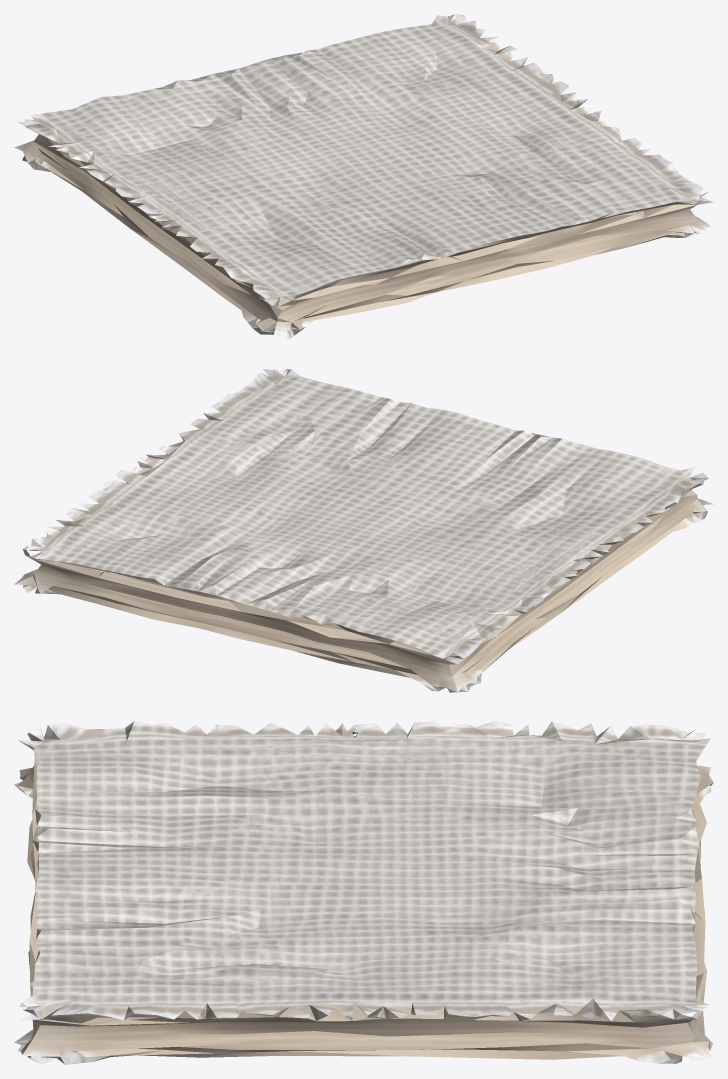
Rendered from StageGauze.glb.
3 renders of one model, top to bottom at view 1: azimuth 30°, elevation 25°; view 2: azimuth 150°, elevation 25°; view 3: azimuth 270°, elevation 25°, orthographic. The views are drawn at different scales.
Visible parts, largest first — view 1: geometry_0; view 2: geometry_0; view 3: geometry_0.
Boxes of the visible parts, left/top/right/bottom form: geometry_0: left=14, top=14, right=713, bottom=339; geometry_0: left=14, top=368, right=713, bottom=692; geometry_0: left=14, top=721, right=713, bottom=1064.
Bounding box in the file's own units: 0.09 × 0.008 × 0.09.
1 material, 1 textured.
